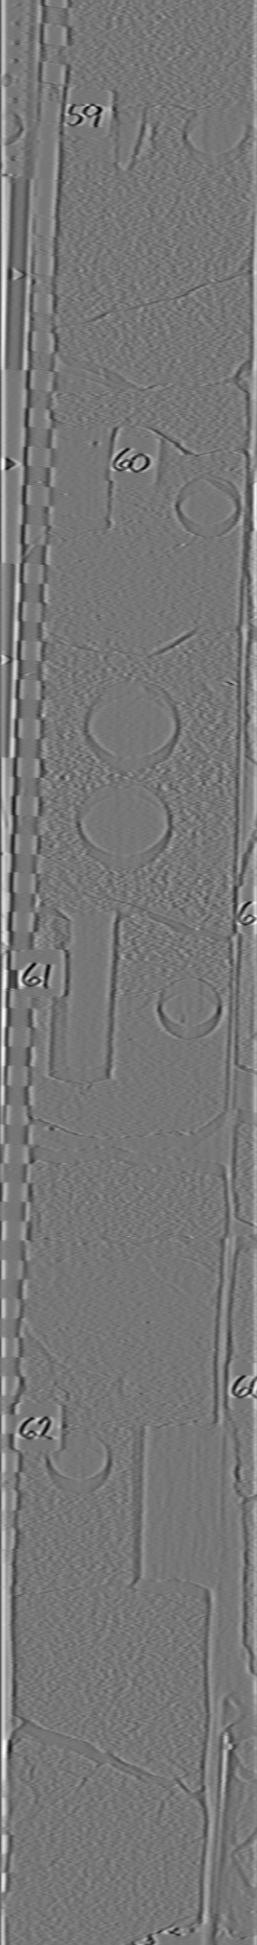hplug: (38, 1423, 119, 1501), (147, 972, 231, 1047), (169, 469, 245, 543), (178, 103, 257, 171)
scal: (81, 671, 189, 777), (71, 783, 173, 875)
vplug: (127, 1403, 219, 1609), (47, 893, 119, 1092), (43, 411, 125, 533)
